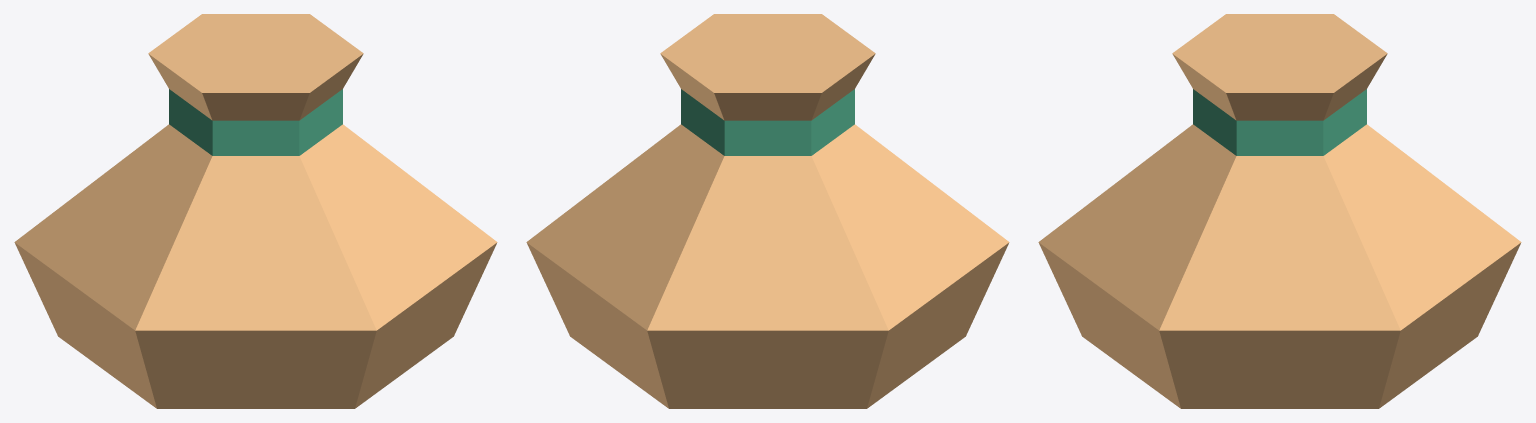
The model's file is dimSum.fbx.
3 renders of one model, left to right at view 1: azimuth 30°, elevation 25°; view 2: azimuth 150°, elevation 25°; view 3: azimuth 270°, elevation 25°, orthographic.
Visible parts, largest first — view 1: dimSum; view 2: dimSum; view 3: dimSum.
Boxes of the visible parts, bbox=[...] form: dimSum: bbox=[14, 14, 497, 408]; dimSum: bbox=[526, 14, 1009, 408]; dimSum: bbox=[1038, 14, 1521, 408].
Size of the model in its own units: 1.61 by 1.2 by 1.86.
